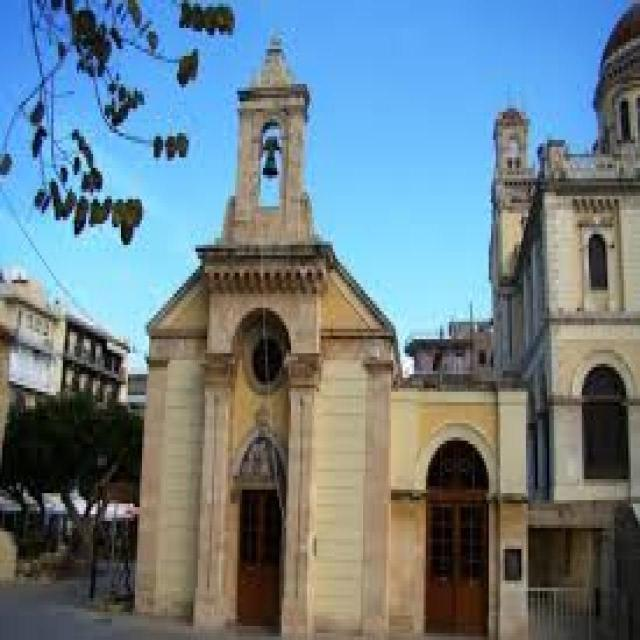Agios Minas: (136, 1, 640, 640)
